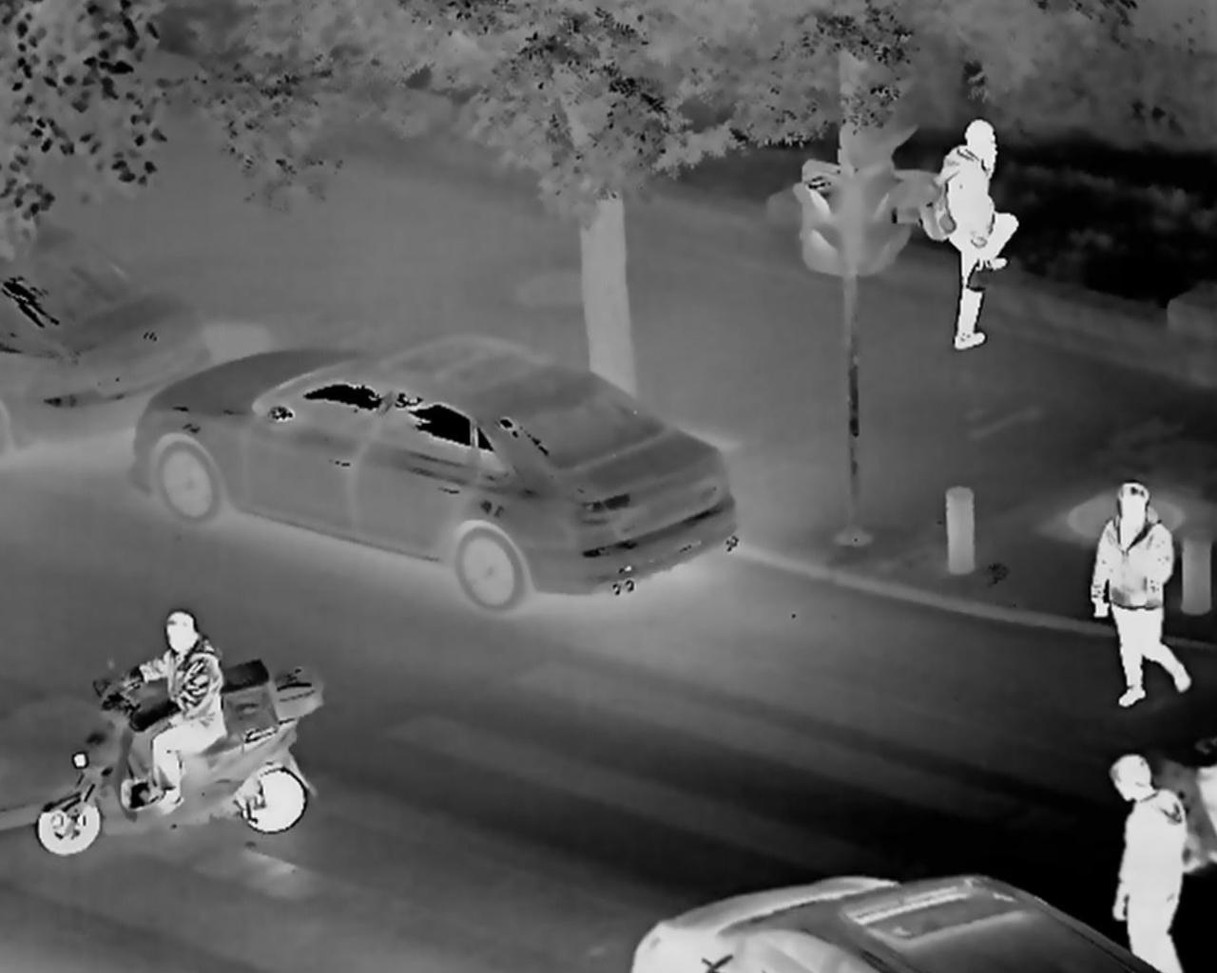person: (1077, 476, 1199, 711), (112, 605, 229, 814), (928, 116, 1020, 355), (1096, 752, 1186, 973)
